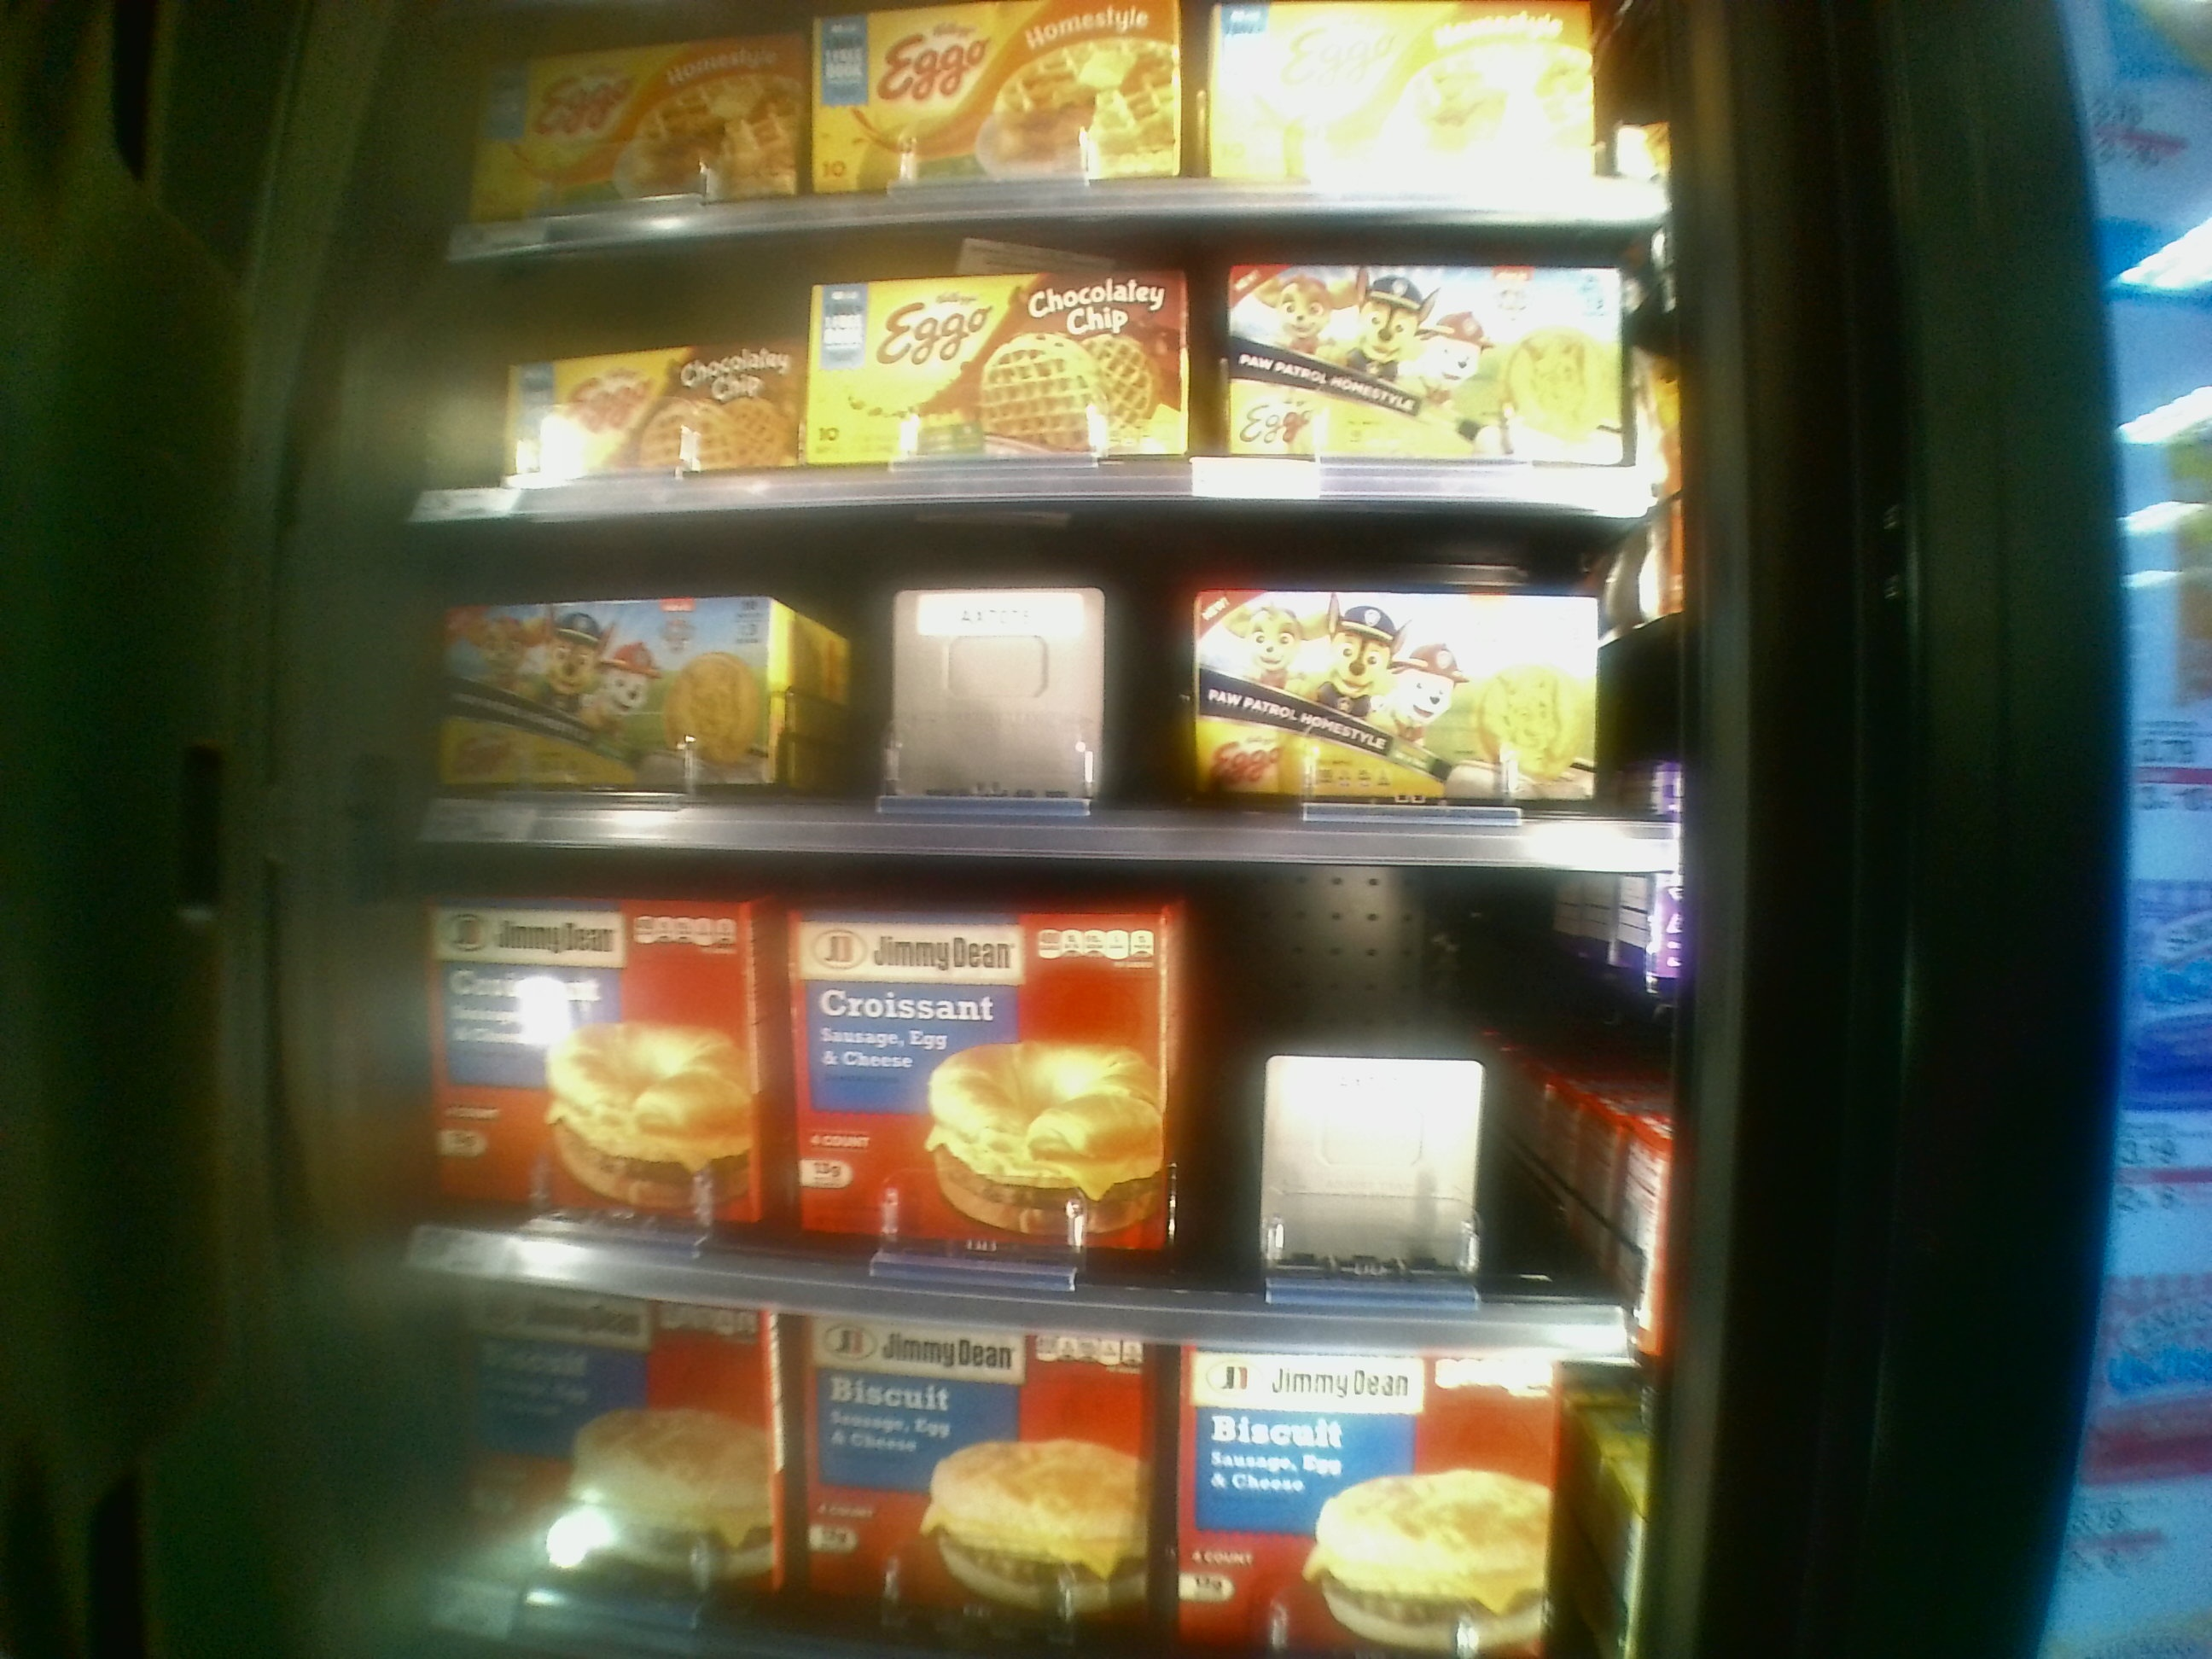shelf: (401, 828, 1681, 1373)
